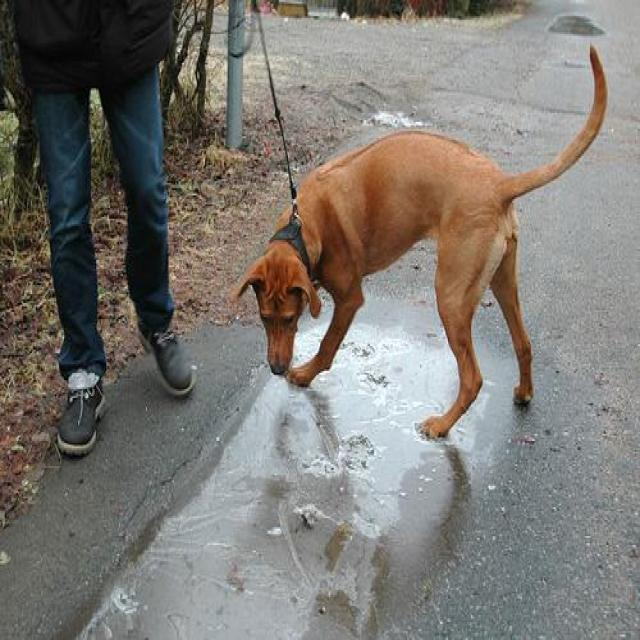rhodesian_ridgeback: (224, 38, 612, 455)
